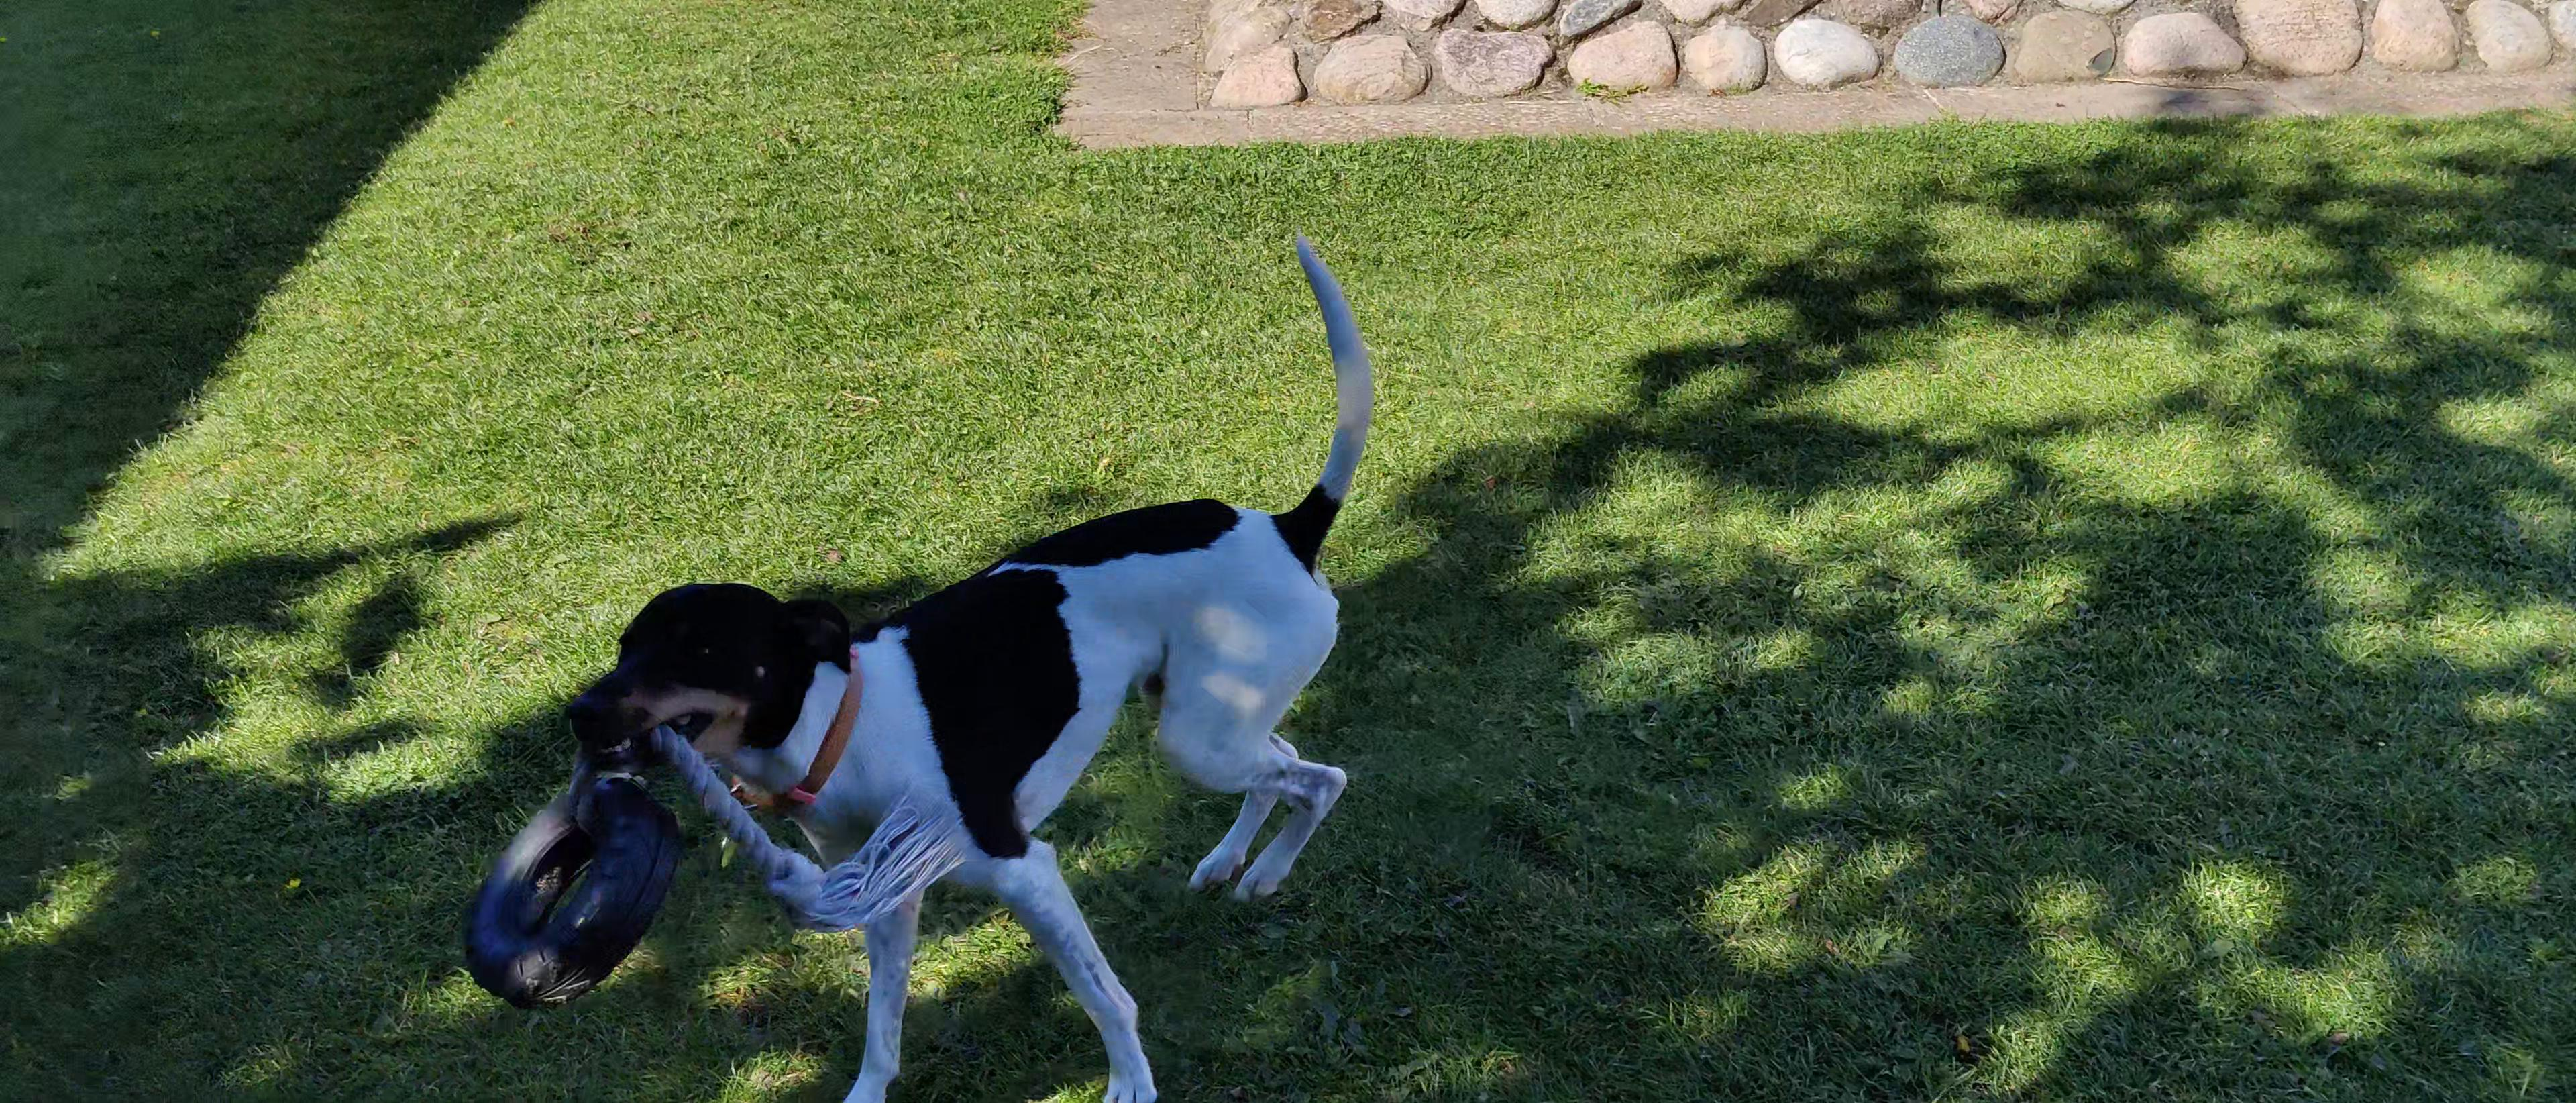Dog: (560, 224, 1380, 1103)
